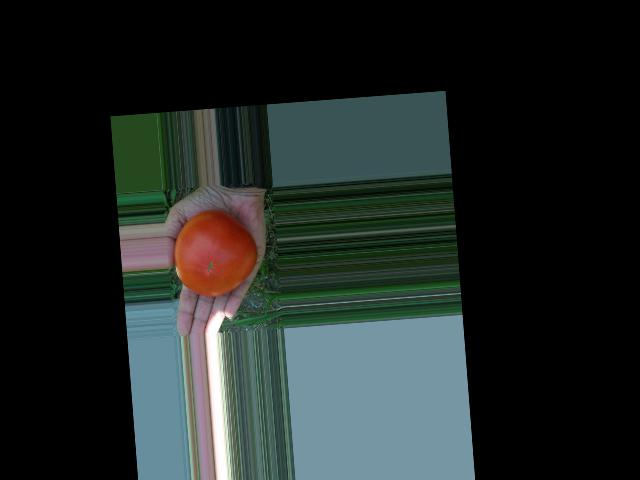tomato: (171, 208, 260, 299)
